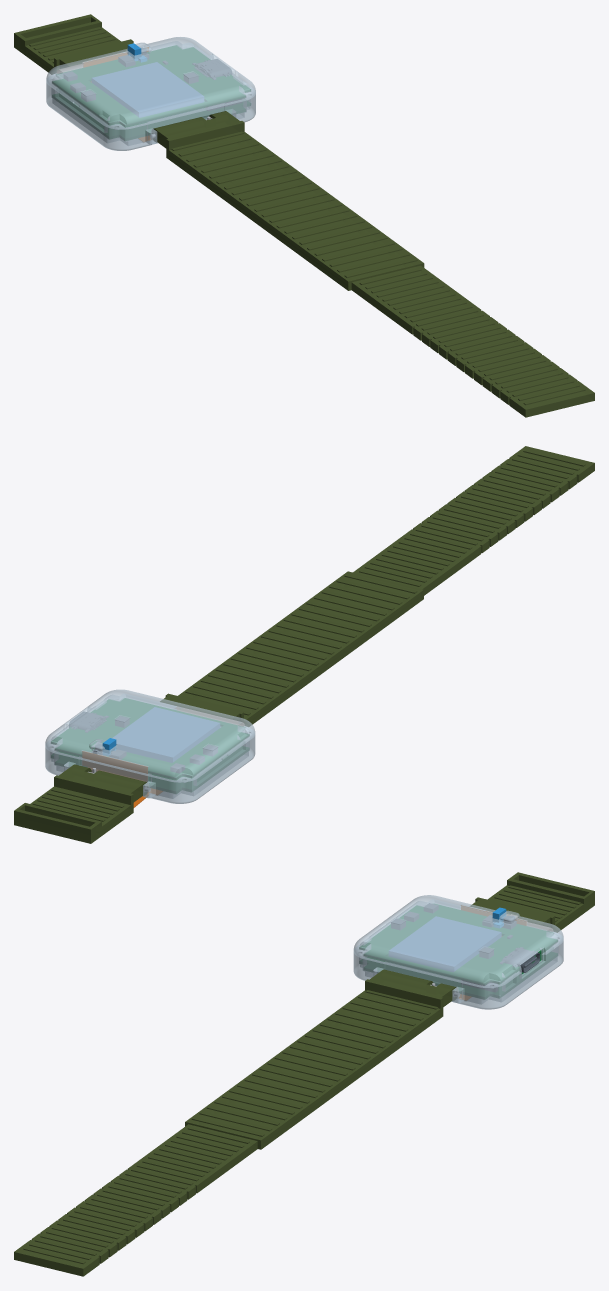
The model's file is watch_military_green_strap.glb.
3 views of the same model, one above another, from view 1: azimuth 30°, elevation 25°; view 2: azimuth 150°, elevation 25°; view 3: azimuth 330°, elevation 25° (orthographic).
Visible parts, largest first — view 1: strap_military_green_south, cover, MCU_board, strap_military_green_north, tray, battery_302025_max, D17_board; view 2: strap_military_green_south, cover, strap_military_green_north, MCU_board, tray, battery_302025_max, D17_board, FPC_ANT_2G4; view 3: strap_military_green_south, cover, MCU_board, strap_military_green_north, tray, battery_302025_max, D17_board, MCU_USB_J400.
Part boxes in pixels (<box>): strap_military_green_south: <box>152,111,594,417</box>; cover: <box>46,37,255,129</box>; MCU_board: <box>52,45,250,126</box>; strap_military_green_north: <box>14,14,133,74</box>; tray: <box>46,74,255,150</box>; battery_302025_max: <box>92,62,203,117</box>; D17_board: <box>52,93,250,140</box>; strap_military_green_south: <box>160,446,594,726</box>; cover: <box>45,689,255,782</box>; strap_military_green_north: <box>14,764,148,843</box>; MCU_board: <box>51,698,249,779</box>; tray: <box>45,727,255,803</box>; battery_302025_max: <box>112,707,219,762</box>; D17_board: <box>51,746,248,793</box>; FPC_ANT_2G4: <box>82,751,147,780</box>; strap_military_green_south: <box>14,969,457,1276</box>; cover: <box>353,895,563,987</box>; MCU_board: <box>359,904,557,984</box>; strap_military_green_north: <box>470,872,594,932</box>; tray: <box>353,932,563,1009</box>; battery_302025_max: <box>389,916,501,971</box>; D17_board: <box>360,948,557,999</box>; MCU_USB_J400: <box>500,947,540,972</box>.
Bounding box in the file's own units: 0.046 × 0.0116 × 0.269.
